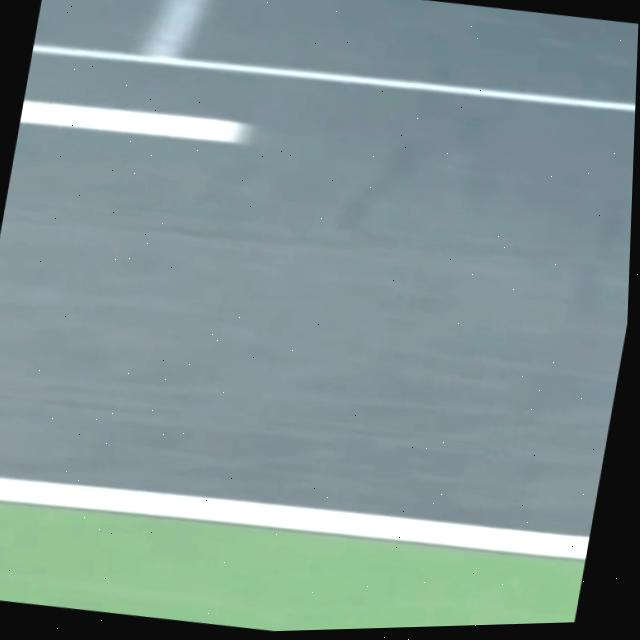center: (20, 99, 253, 143)
right: (0, 476, 590, 557)
